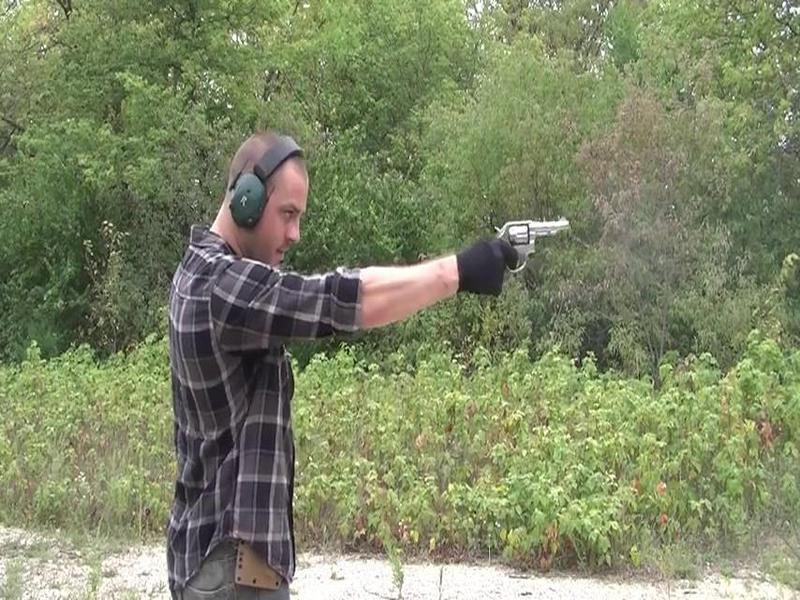Revolver: (479, 204, 574, 284)
